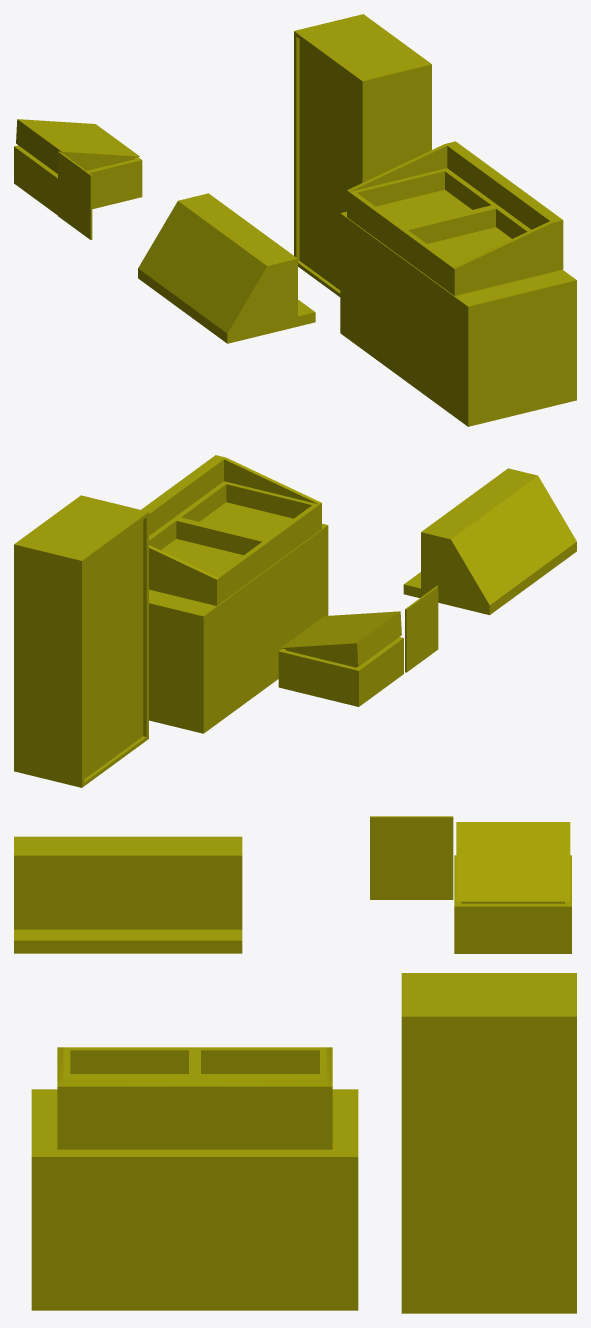
Rendered from cheemken.fbx.
3 renders of one model, top to bottom at view 1: azimuth 30°, elevation 25°; view 2: azimuth 150°, elevation 25°; view 3: azimuth 270°, elevation 25°, orthographic. The views are drawn at different scales.
Visible parts, largest first — view 1: table, fridge, fryer, chicken_display, cashier, menu; view 2: fridge, table, fryer, chicken_display, cashier, menu; view 3: fridge, table, fryer, chicken_display, cashier, menu.
Part boxes in pixels (x1,y1,x2,y2): table: [340, 211, 576, 426]; fridge: [294, 14, 431, 296]; fryer: [347, 141, 563, 295]; chicken_display: [138, 193, 315, 343]; cashier: [14, 119, 142, 215]; menu: [58, 151, 92, 239]; fridge: [14, 495, 148, 787]; table: [149, 523, 328, 733]; fryer: [141, 455, 321, 605]; chicken_display: [403, 468, 576, 615]; cashier: [278, 611, 403, 706]; menu: [405, 586, 438, 672]; fridge: [401, 973, 576, 1313]; table: [31, 1089, 358, 1310]; fryer: [57, 1047, 332, 1149]; chicken_display: [14, 836, 242, 953]; cashier: [454, 822, 571, 953]; menu: [370, 816, 453, 899].
Bounding box in the file's own units: 288 × 180 × 309.
